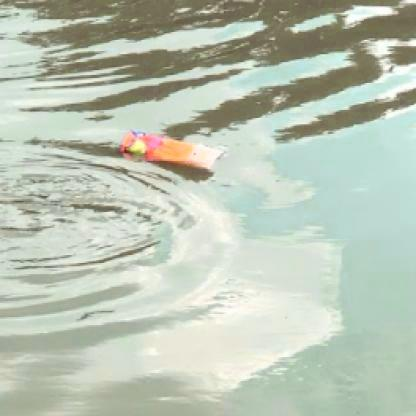Trash: (118, 128, 226, 177)
